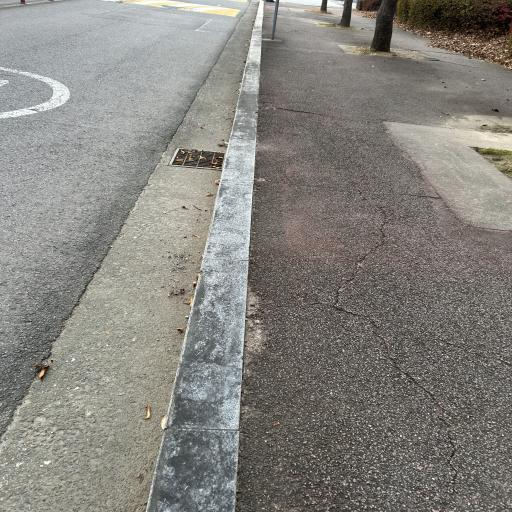debris: (194, 154, 204, 159), (185, 151, 191, 159), (216, 153, 221, 157), (178, 160, 184, 163), (213, 160, 217, 163)
drain: (173, 149, 225, 169)
